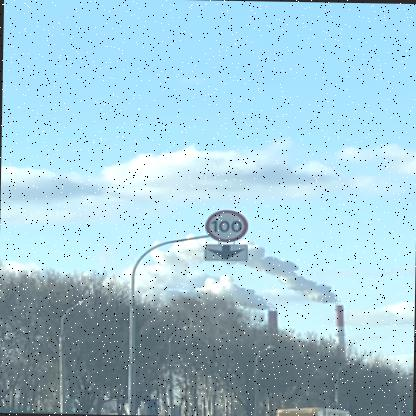speedlimit: (202, 207, 246, 240)
